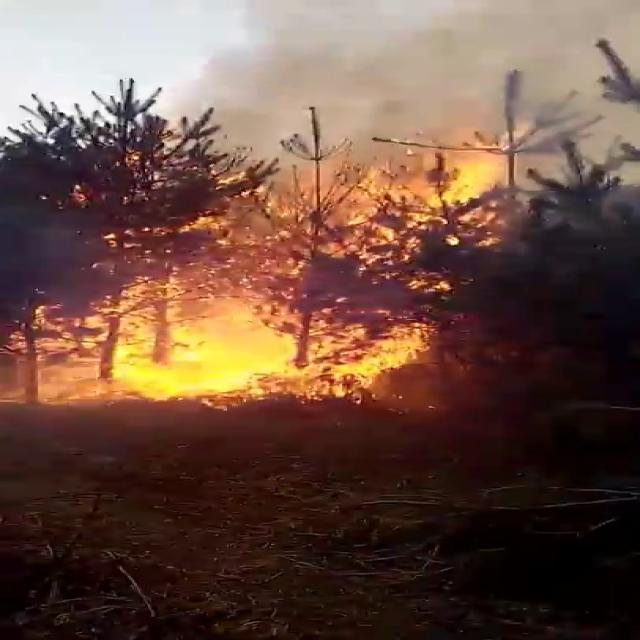Fire: (16, 138, 526, 412)
Smoke: (171, 0, 638, 196)
